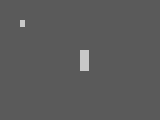person: (80, 50, 88, 70), (20, 20, 24, 26)
